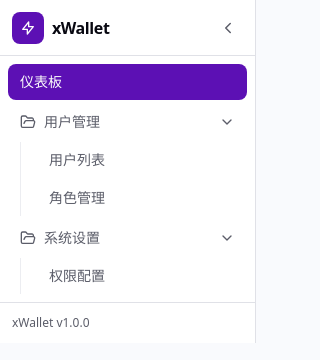
Test: Sidebar › 菜单折叠/展开功能 › 点击已折叠的父菜单项应该展开子菜单
Click the button "用户管理".
click(128, 122)  # box [8,104,247,140]
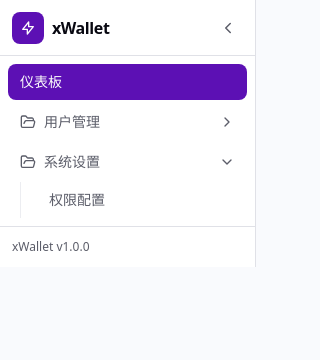
Expected: the link "用户列表" is gone
Click the button "用户管理".
click(128, 122)  # box [8,104,247,140]
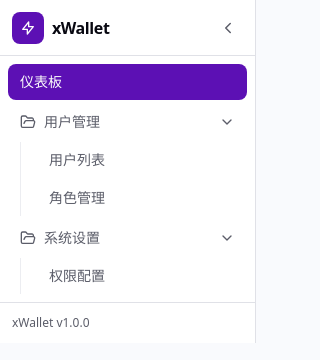
Expected: the text "用户列表" is shown, [49,150,105,170]
